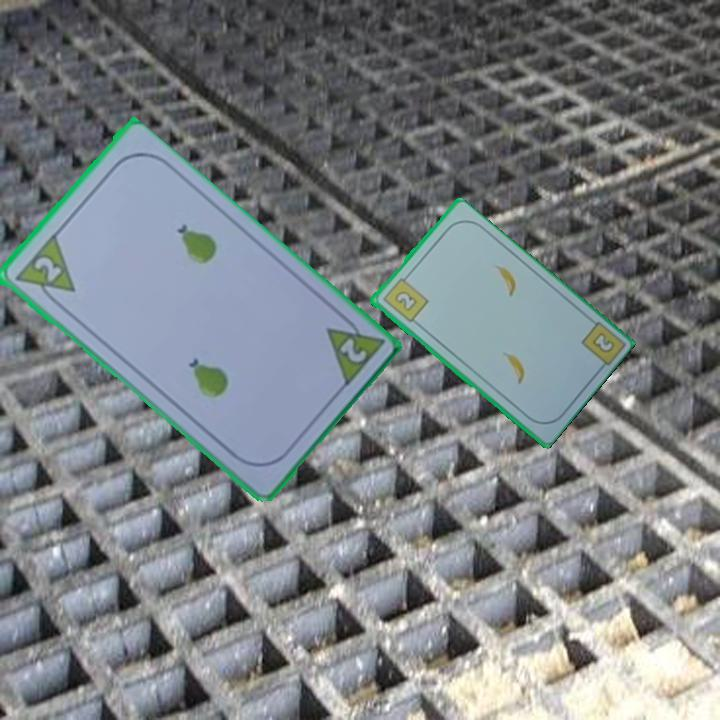2b: (378, 271, 431, 325), (588, 329, 617, 356)
2p: (321, 308, 386, 391), (29, 252, 64, 286)
